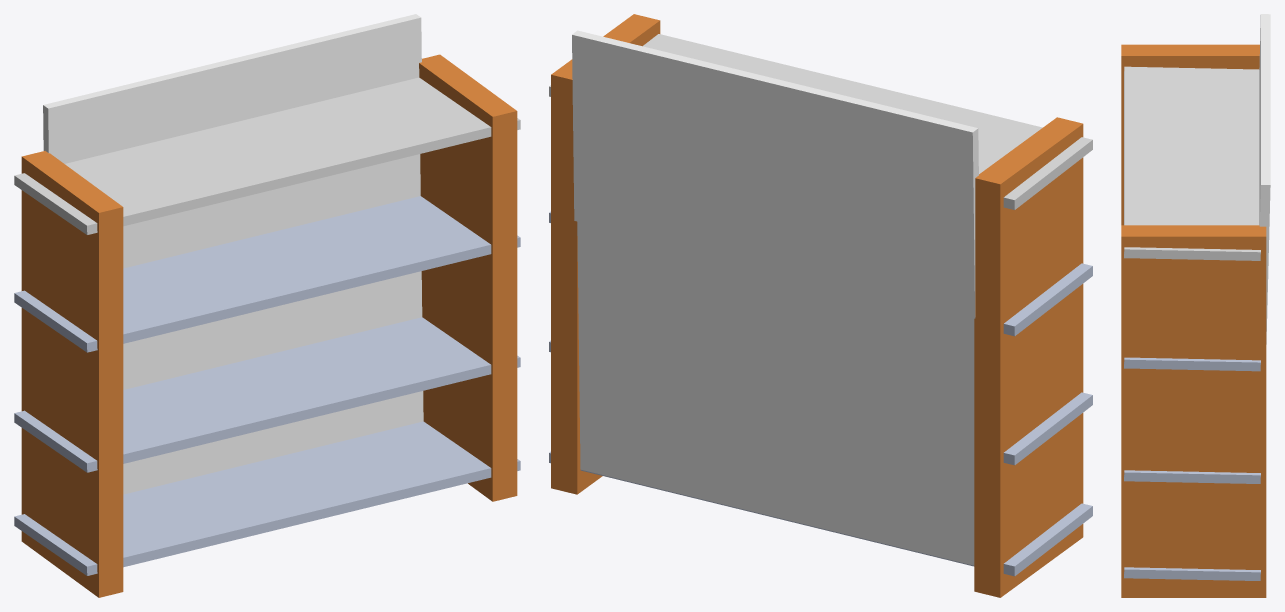
Rendered from show_cabinet_oneside.glb.
The picture shows the model from 3 angles, left to right: view 1: azimuth 30°, elevation 25°; view 2: azimuth 150°, elevation 25°; view 3: azimuth 270°, elevation 25°; orthographic projection. The views are drawn at different scales.
Visible parts, largest first — view 1: Cube.042, Cube.037, Cube.038, Cube.036, Cube.039, Cube.041, Cube.040; view 2: Cube.042, Cube.037, Cube.036, Cube.038, Cube.040, Cube.041, Cube.039; view 3: Cube.036, Cube.038, Cube.037, Cube.042, Cube.041, Cube.040, Cube.039.
Boxes of the visible parts, x1,y1,x2,y2 form: Cube.042: [43, 14, 423, 494]; Cube.037: [21, 151, 123, 597]; Cube.038: [14, 77, 520, 234]; Cube.036: [419, 54, 517, 501]; Cube.039: [14, 196, 520, 352]; Cube.041: [14, 317, 520, 472]; Cube.040: [14, 421, 520, 575]; Cube.042: [572, 30, 978, 565]; Cube.037: [974, 117, 1083, 597]; Cube.036: [551, 14, 660, 494]; Cube.038: [549, 34, 1092, 209]; Cube.040: [549, 451, 1092, 576]; Cube.041: [549, 340, 1092, 465]; Cube.039: [549, 211, 1092, 336]; Cube.036: [1121, 225, 1266, 597]; Cube.038: [1124, 66, 1260, 260]; Cube.037: [1121, 44, 1259, 225]; Cube.042: [1259, 14, 1270, 344]; Cube.041: [1124, 470, 1260, 483]; Cube.040: [1124, 567, 1260, 580]; Cube.039: [1124, 357, 1260, 371].
Size of the model in its own units: 0.4616 by 0.4369 by 0.1465.
